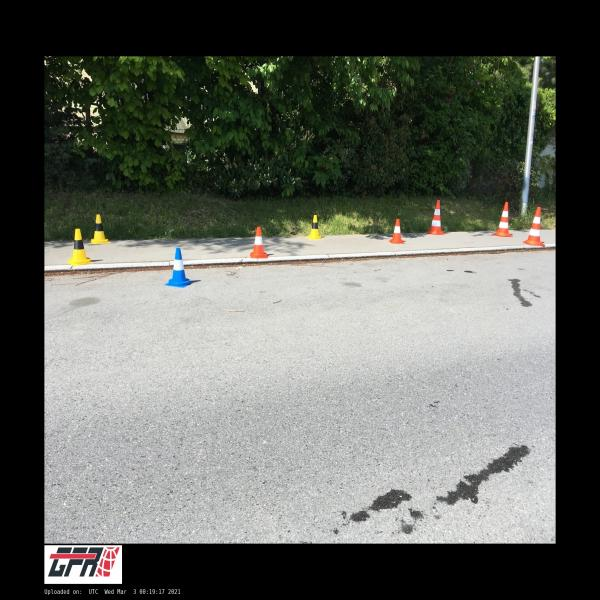blue_cone: (165, 248, 193, 287)
large_orange_cone: (524, 207, 544, 246), (425, 200, 446, 234), (493, 202, 513, 237)
orange_cone: (250, 226, 268, 258), (389, 218, 404, 244)
yellow_cone: (68, 228, 92, 266), (91, 214, 110, 244), (307, 215, 322, 239)
